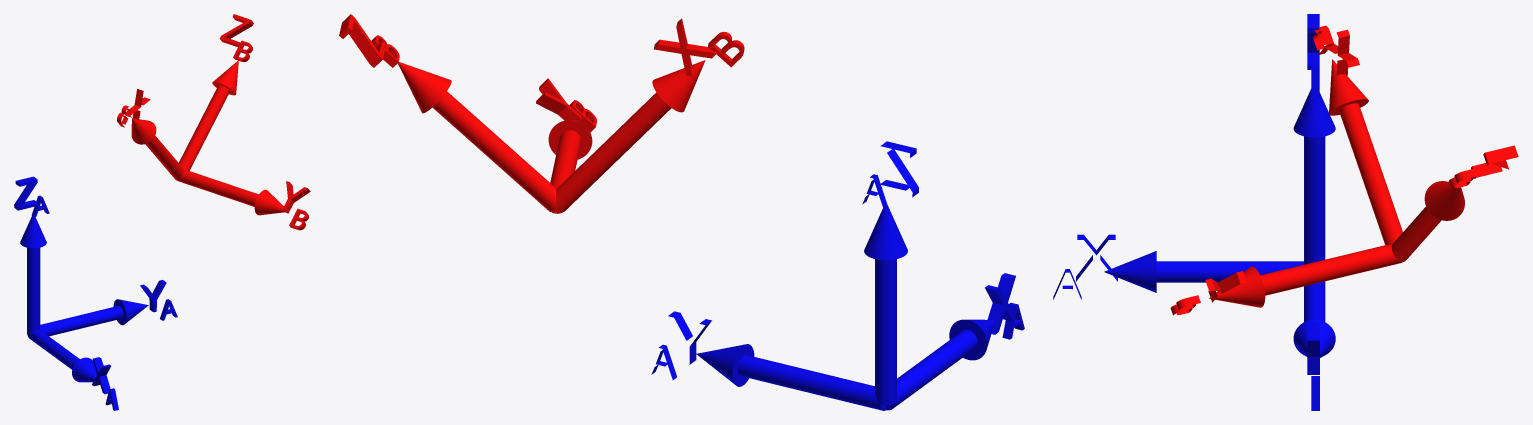
The model's file is fig2_14.gltf.
3 views of the same model, side by side, from view 1: azimuth 30°, elevation 25°; view 2: azimuth 150°, elevation 25°; view 3: azimuth 270°, elevation 25° (orthographic). The views are drawn at different scales.
Parts seen in each view (by area): view 1: Renderer Node; view 2: Renderer Node; view 3: Renderer Node.
Part boxes in pixels (box(x1,y1,x2,y2)): Renderer Node: box(14, 14, 310, 410); Renderer Node: box(339, 14, 1024, 410); Renderer Node: box(1053, 14, 1518, 410).
Size of the model in its own units: 2.54 by 1.88 by 2.21.
